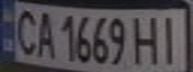1: (54, 10, 75, 62)
6: (90, 12, 112, 65), (72, 12, 93, 63)
9: (106, 14, 133, 65)
A: (30, 7, 57, 58)
C: (9, 5, 42, 57)
H: (130, 12, 166, 65)
I: (154, 11, 187, 65)
